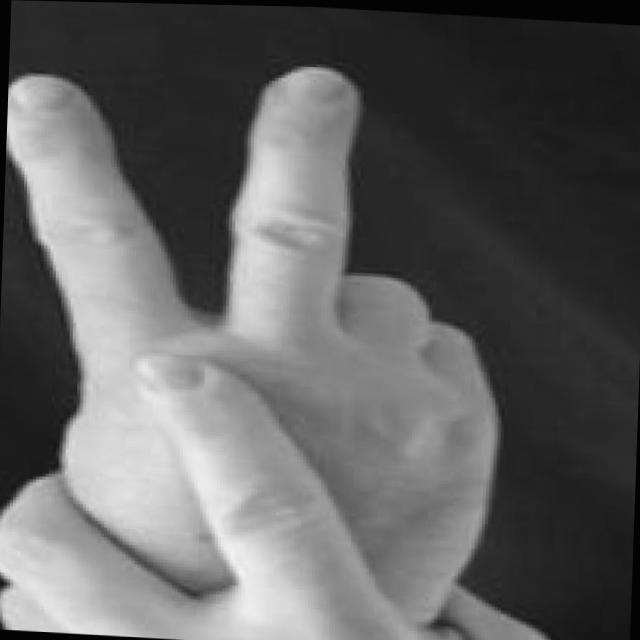Y: (0, 49, 583, 640)
